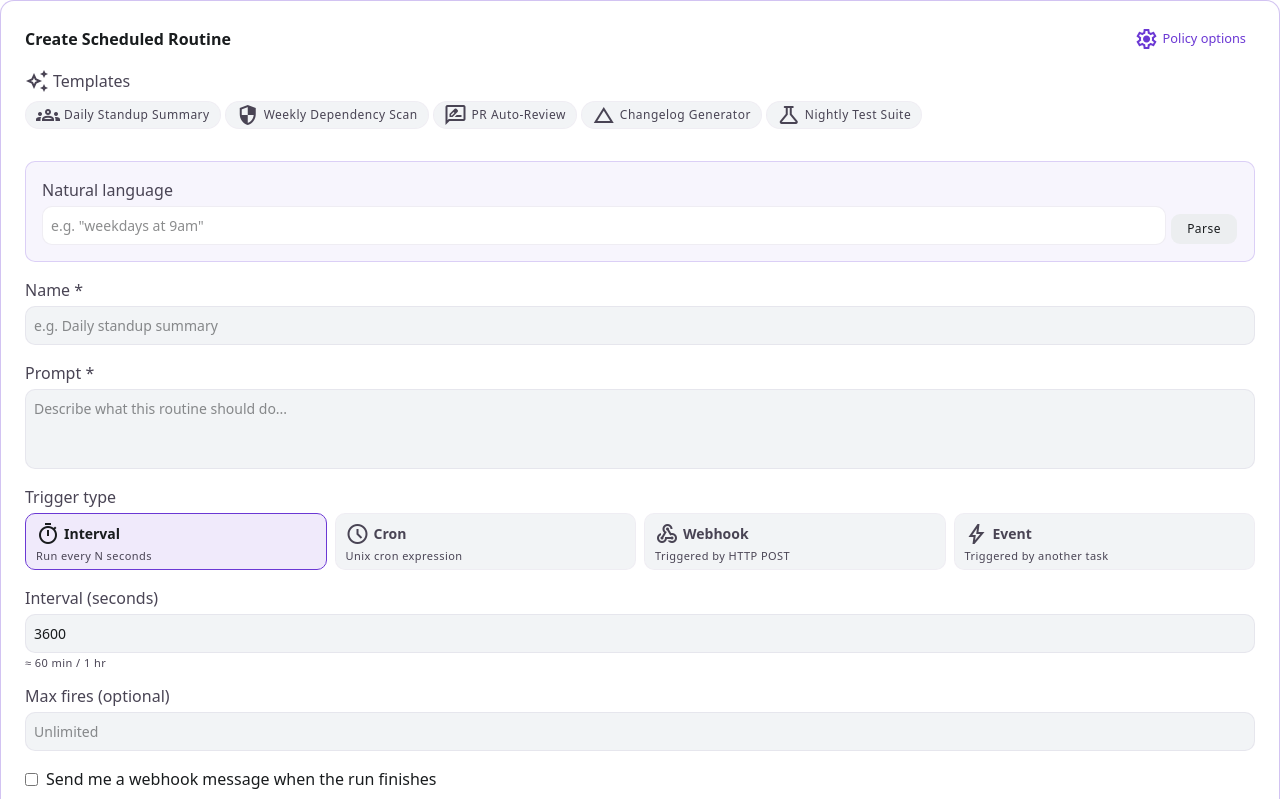
it: ScheduleForm › shows webhook info banner when webhook selected
This screenshot has width=1280, height=799.
Click the radio button labelled "Webhook Triggered by HTTP POST".
click(716, 534)  # box [644, 513, 946, 570]
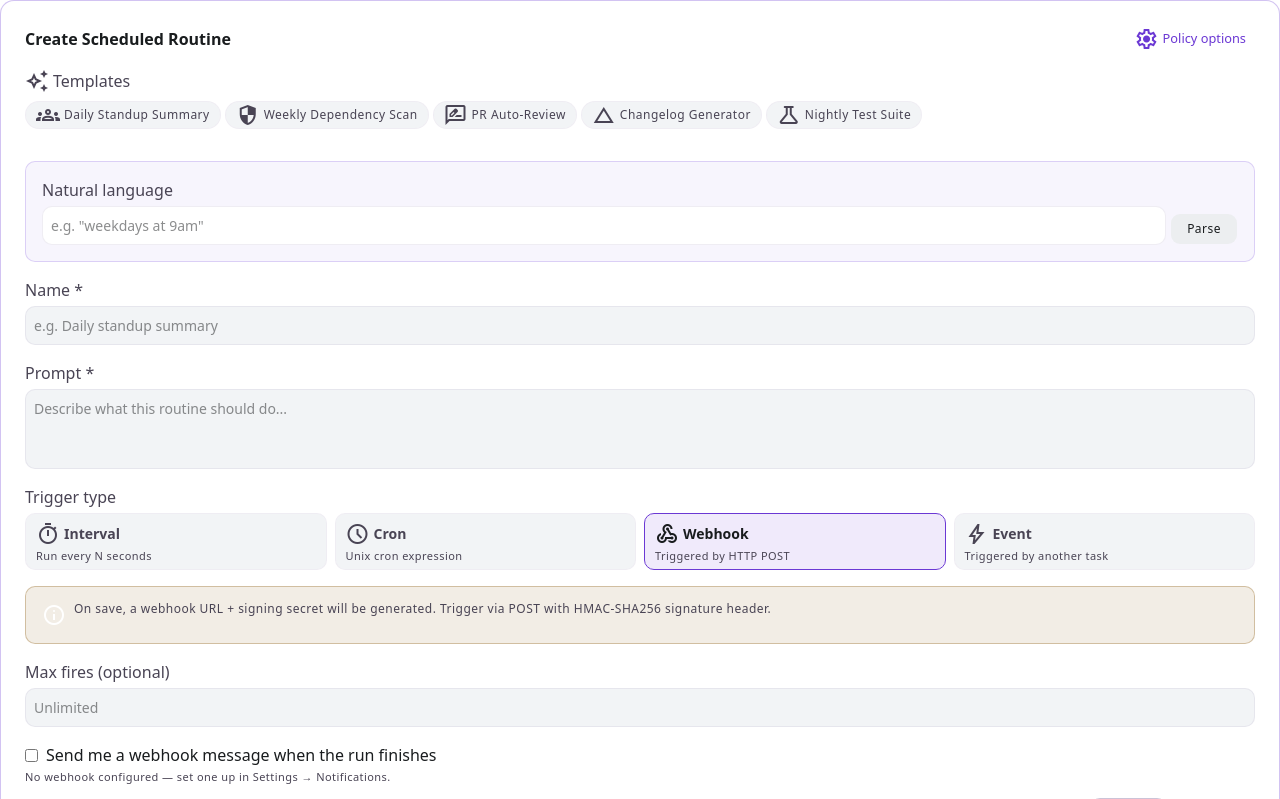
Check: the text "signing secret" is shown, box [74, 600, 771, 617]
